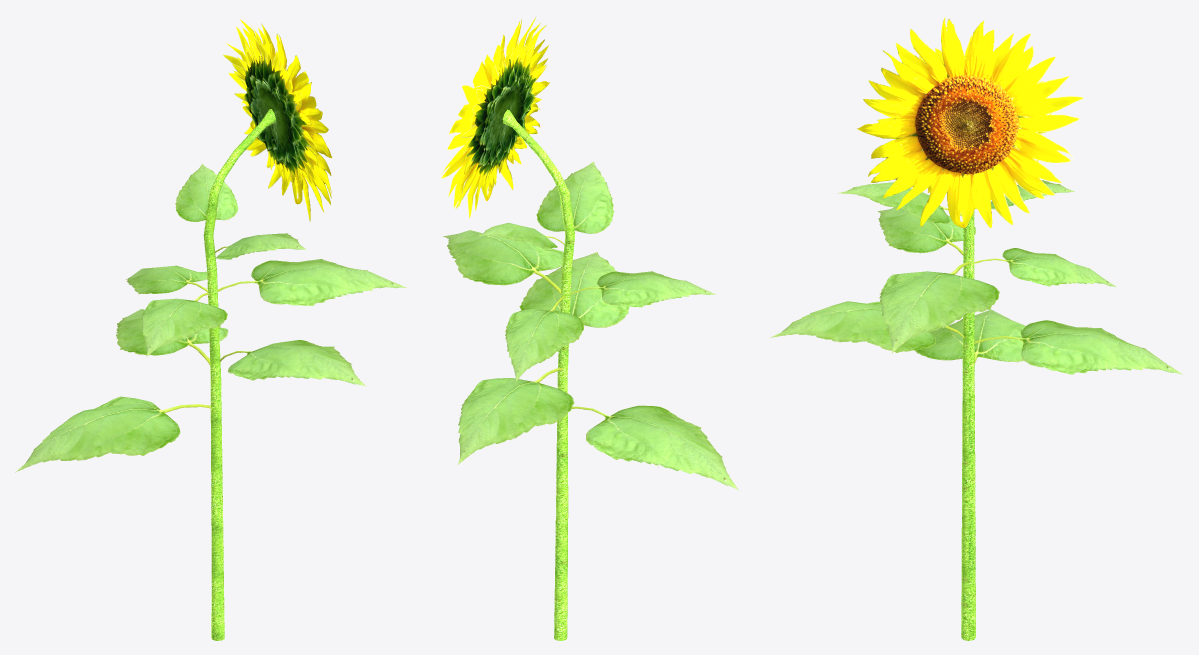
File: sunflower.glb
3 views of the same model, side by side, from view 1: azimuth 30°, elevation 25°; view 2: azimuth 150°, elevation 25°; view 3: azimuth 270°, elevation 25° (orthographic). The views are drawn at different scales.
Visible parts, largest first — view 1: Object_2; view 2: Object_2; view 3: Object_2.
Part boxes in pixels (bbox=[...]): Object_2: bbox=[15, 19, 406, 640]; Object_2: bbox=[439, 17, 738, 640]; Object_2: bbox=[770, 17, 1182, 640].
Size of the model in its own units: 138 by 229 by 133.
1 material, 1 textured.
